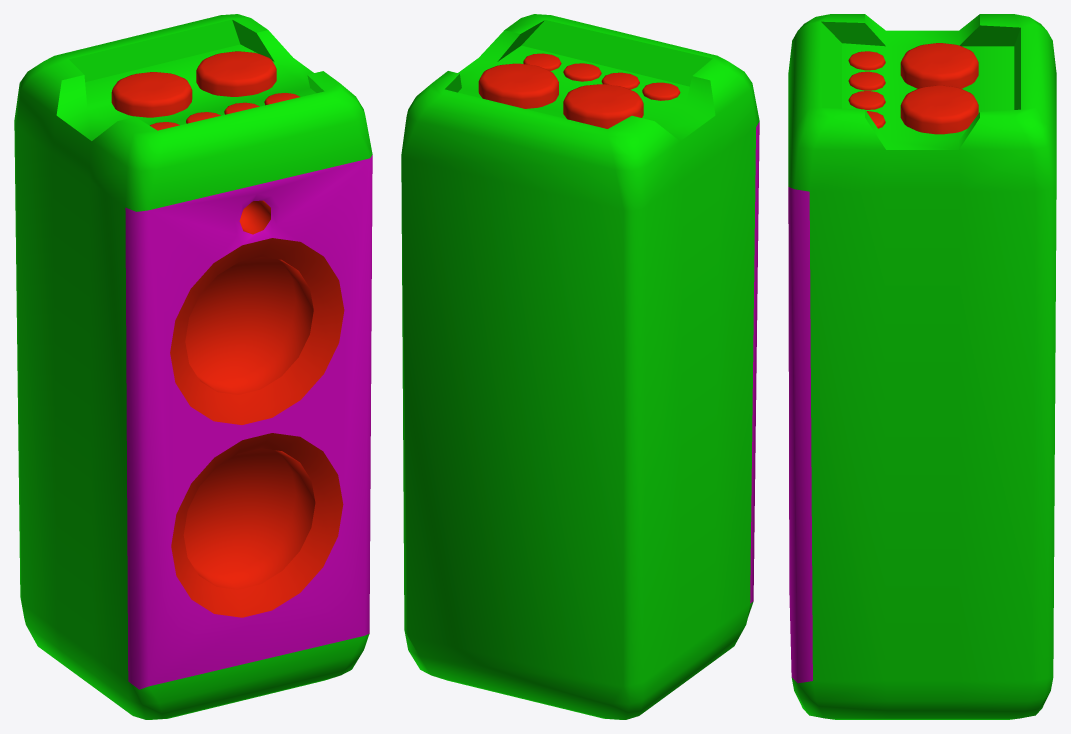
File: Partybox.fbx
3 views of the same model, side by side, from view 1: azimuth 30°, elevation 25°; view 2: azimuth 150°, elevation 25°; view 3: azimuth 270°, elevation 25° (orthographic). The views are drawn at different scales.
Parts seen in each view (by area): view 1: Partybox; view 2: Partybox; view 3: Partybox.
Boxes of the visible parts, box(x1,y1,x2,y2) form: Partybox: box(14, 14, 372, 719); Partybox: box(401, 14, 759, 719); Partybox: box(788, 14, 1056, 719).
Bounding box in the file's own units: 0.265 × 0.245 × 0.615.
